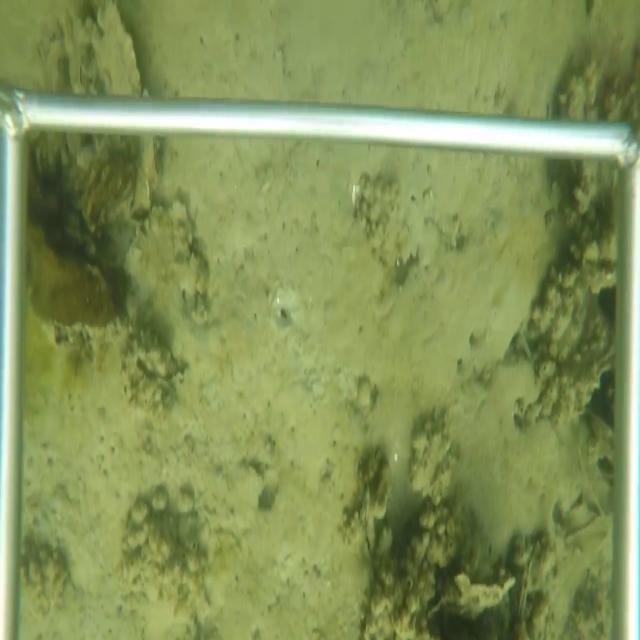Oyster-Closed: (515, 544, 534, 632)
Oyster-Indeterminate: (92, 2, 150, 98)
